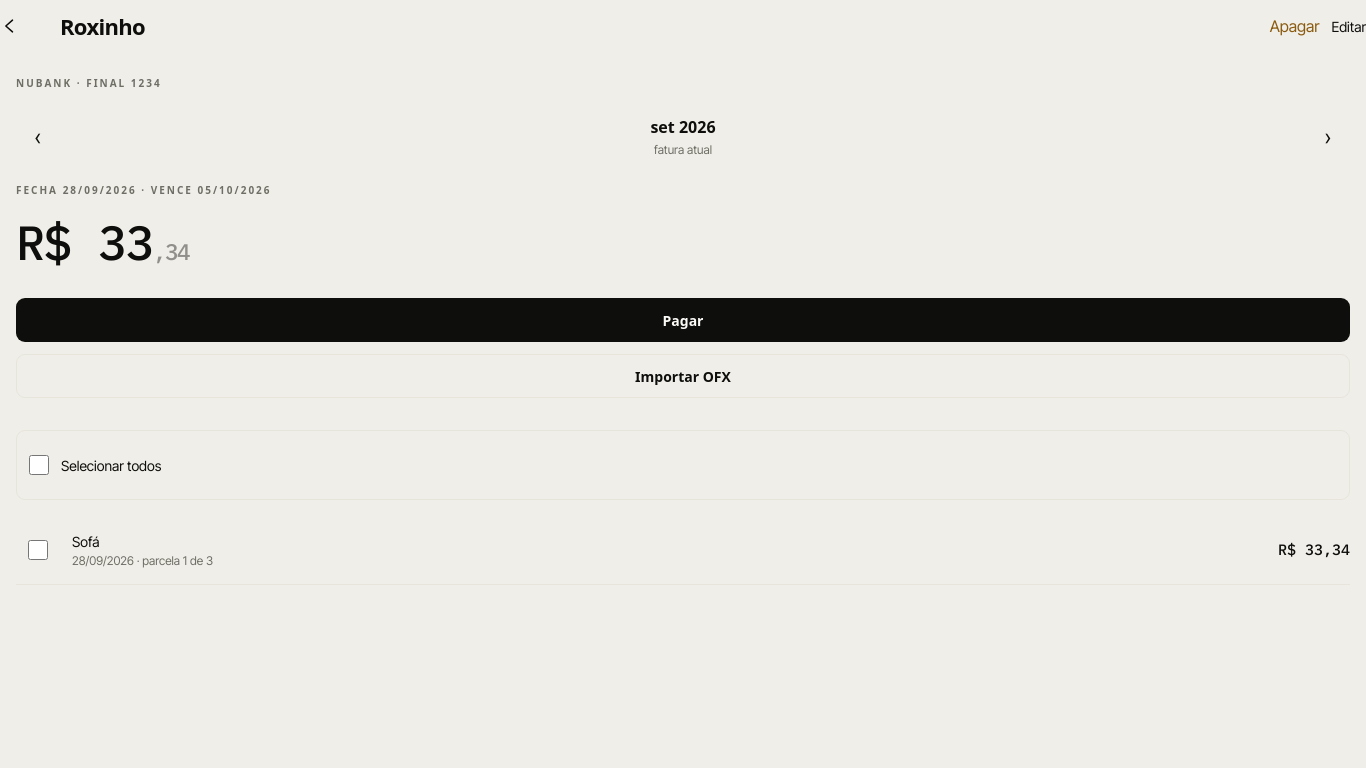
Test: CartaoDetalhe › fecha confirmação ao clicar em 'Cancelar'
Step 1. Click the checkbox named "Selecionar Sofá" → (38, 550), box [28,540,48,560]
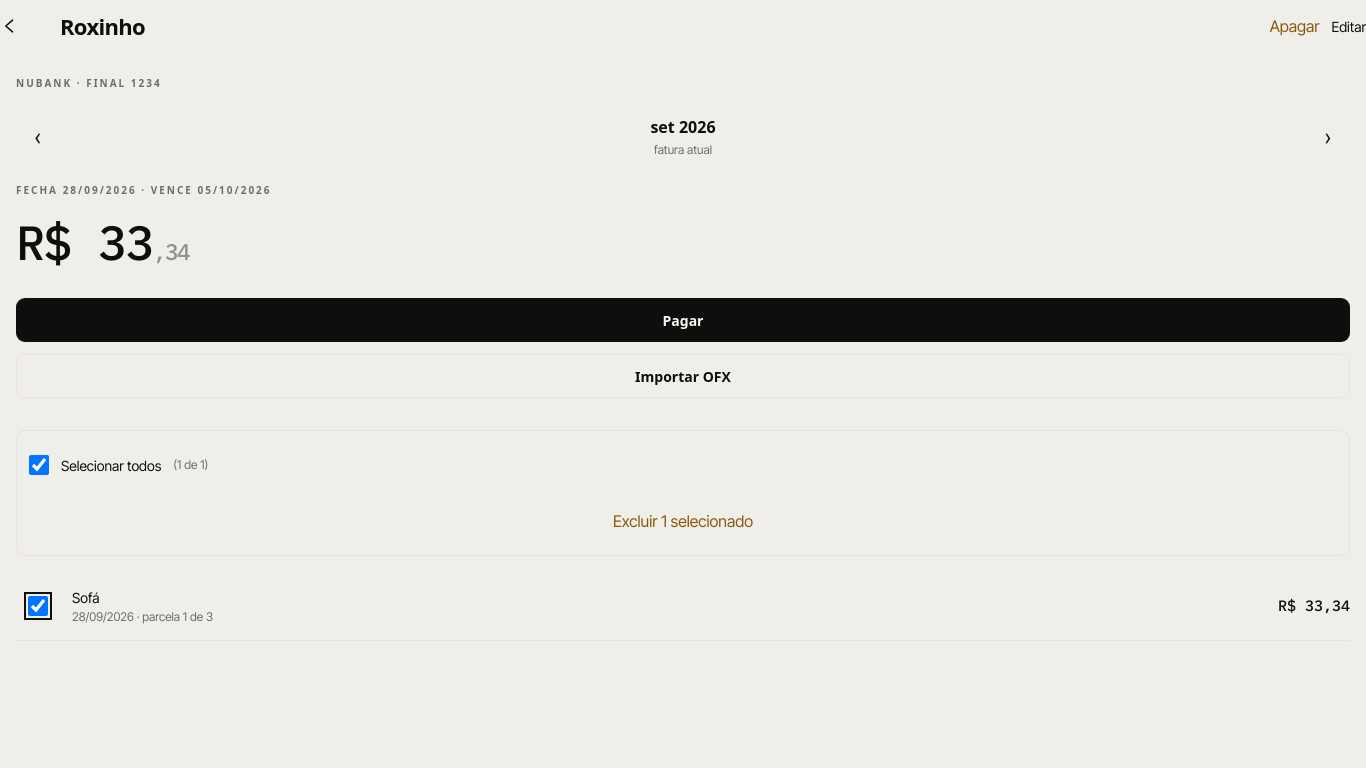
Step 2. Click the button "Excluir 1 selecionado" → (683, 521), box [29,499,1337,543]
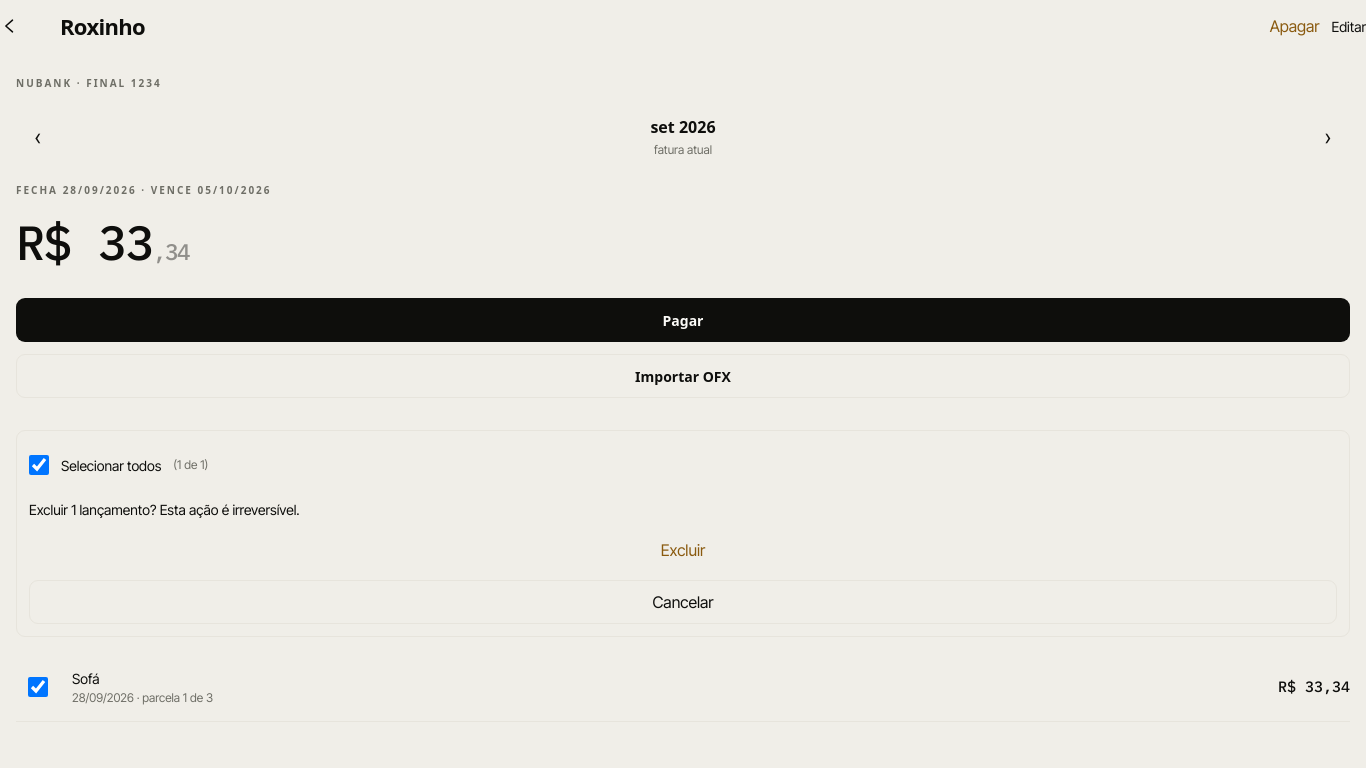
Now the text "Excluir 1 lançamento? Esta ação é irreversível." is shown, box [29,501,300,518]
Step 3. Click the button "Cancelar" → (683, 602), box [29,580,1337,624]
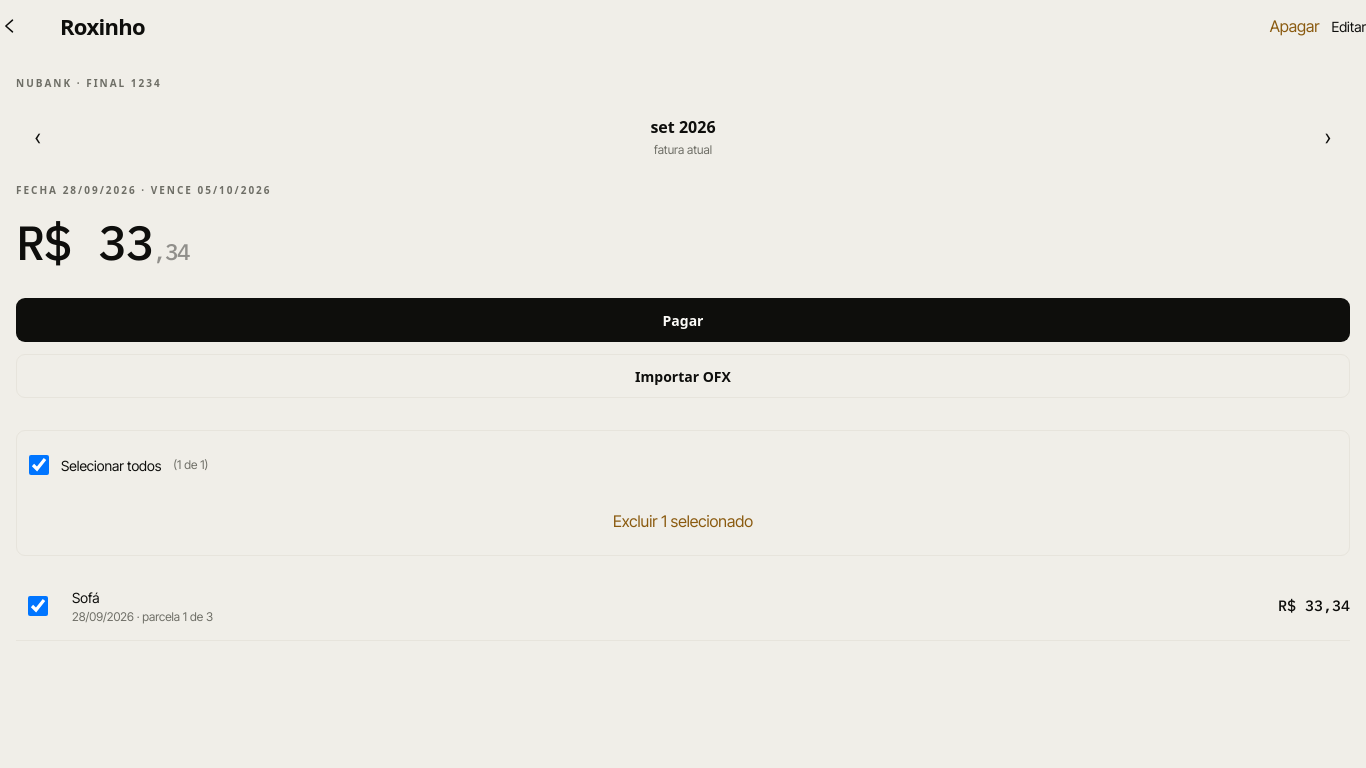
Now the text "Esta ação é irreversível" is gone
Now the button "Excluir 1 selecionado" is shown, box [29,499,1337,543]
